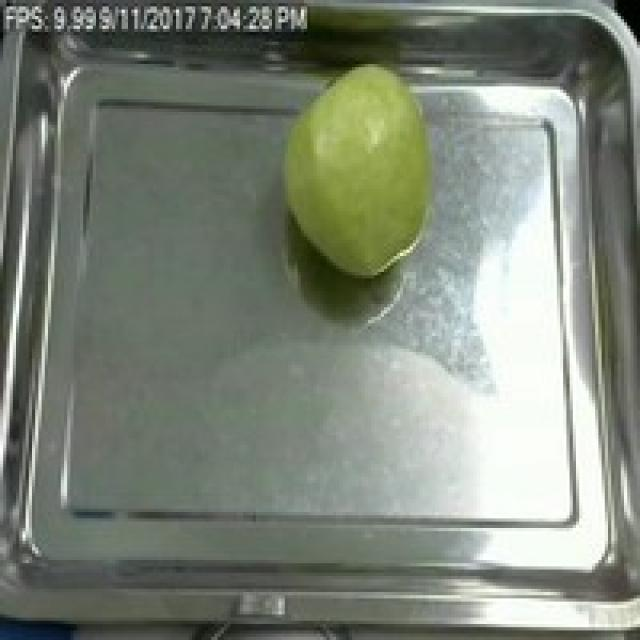Fruit: (269, 54, 448, 288)
